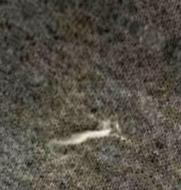snag: (47, 120, 127, 156)
